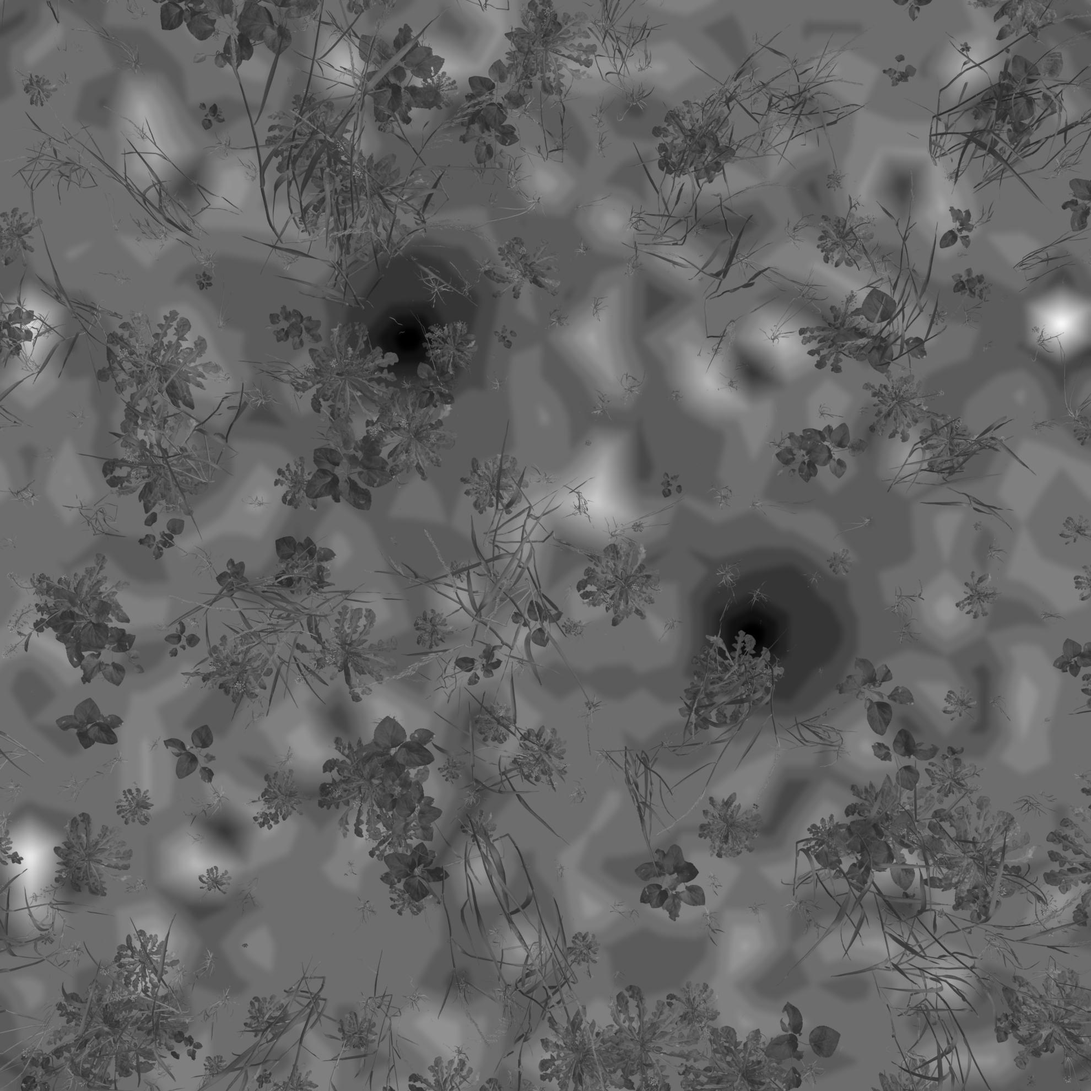landmine: (693, 568, 823, 700), (347, 278, 465, 398)
